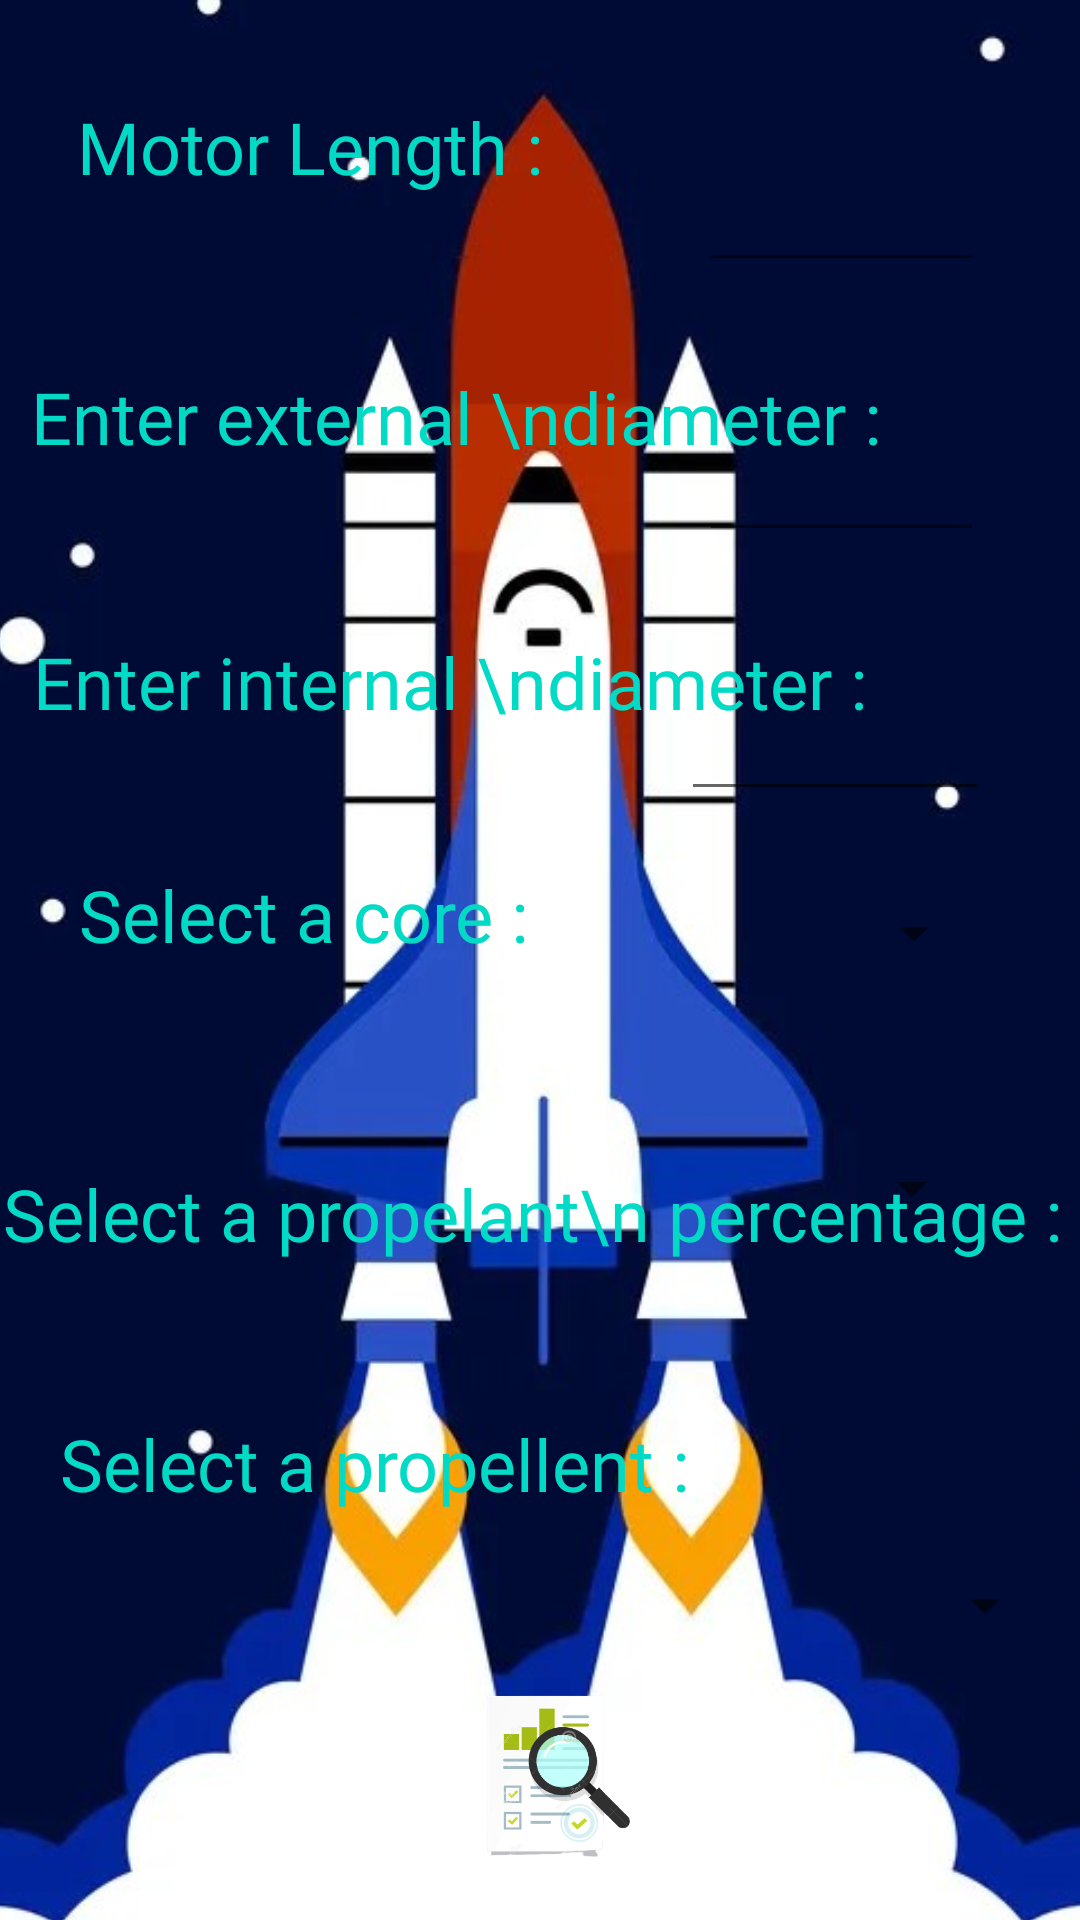

Icons on this 1080*1920 Android screen, each with its box as [x1, y1, x2, y2]:
result output: [491, 1708, 630, 1857]
